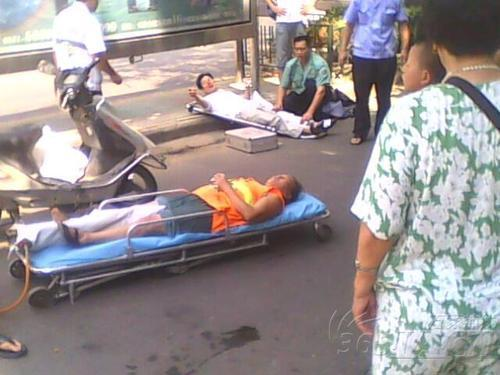Fall-Detected: (182, 63, 334, 138)
